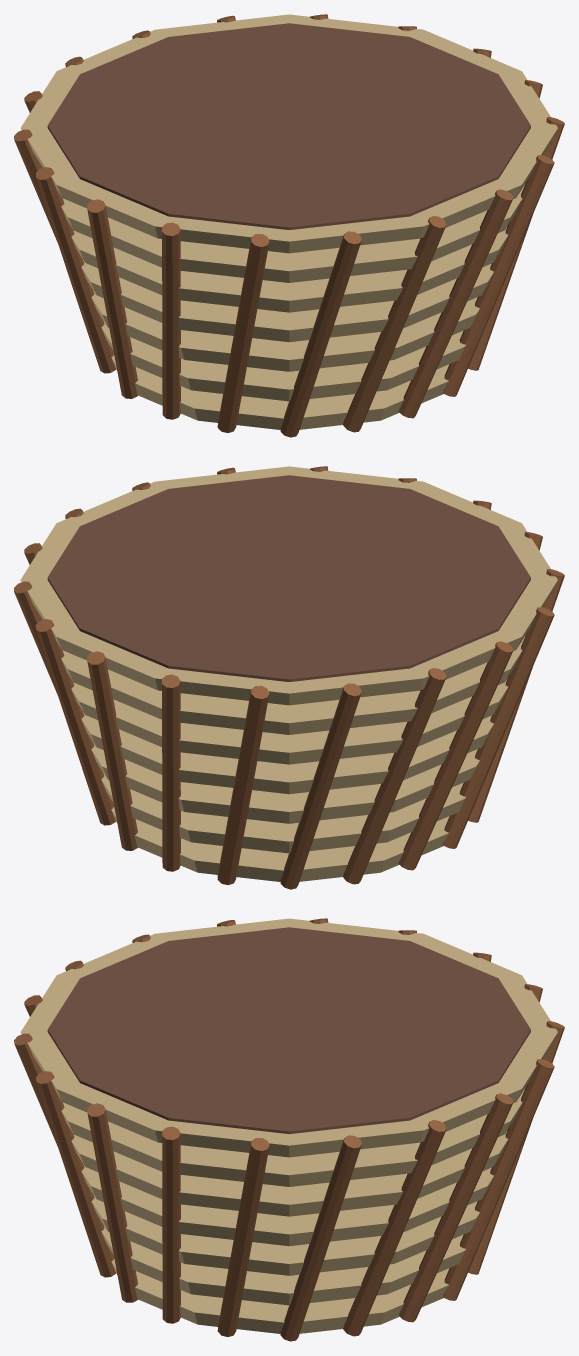
File: 069_cane_basket.glb
3 views of the same model, one above another, from view 1: azimuth 30°, elevation 25°; view 2: azimuth 150°, elevation 25°; view 3: azimuth 270°, elevation 25° (orthographic).
Visible parts, largest first — view 1: Cane basket; view 2: Cane basket; view 3: Cane basket.
Boxes of the visible parts, x1,y1,x2,y2 form: Cane basket: [14, 14, 564, 437]; Cane basket: [14, 466, 564, 889]; Cane basket: [14, 918, 564, 1341].
Bounding box in the file's own units: 0.7497 × 0.3496 × 0.7525.
